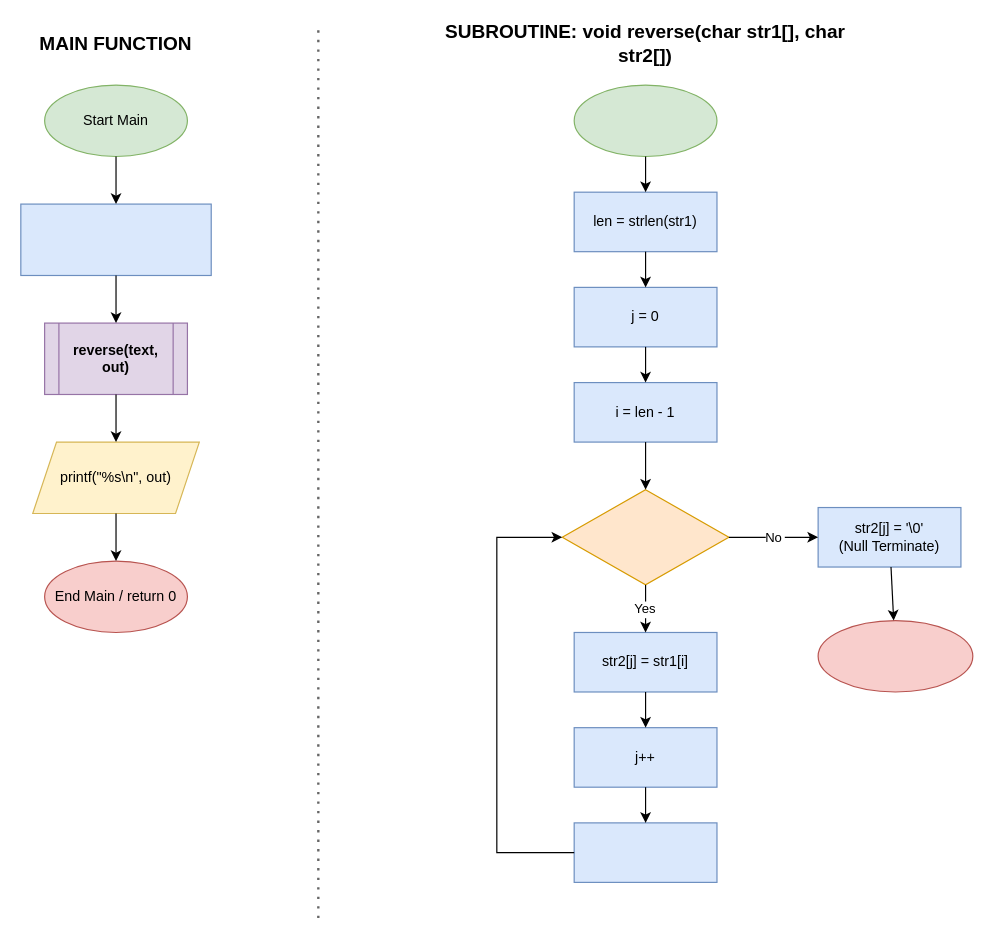
Some shapes in this 994 by 940 pixel diagram are drawn without their labels. Each missing label, with the box of its shape:
char text[50]="Hello World" char out[50]: (20, 203, 211, 275)
i >= 0 ?: (561, 488, 729, 585)
i--: (573, 822, 717, 882)
Return from reverse: (817, 619, 973, 692)
Start reverse (Input str1, str2): (573, 84, 717, 156)
